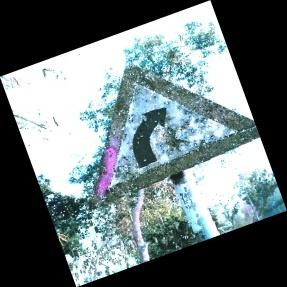Right-turn: (90, 57, 264, 202)
